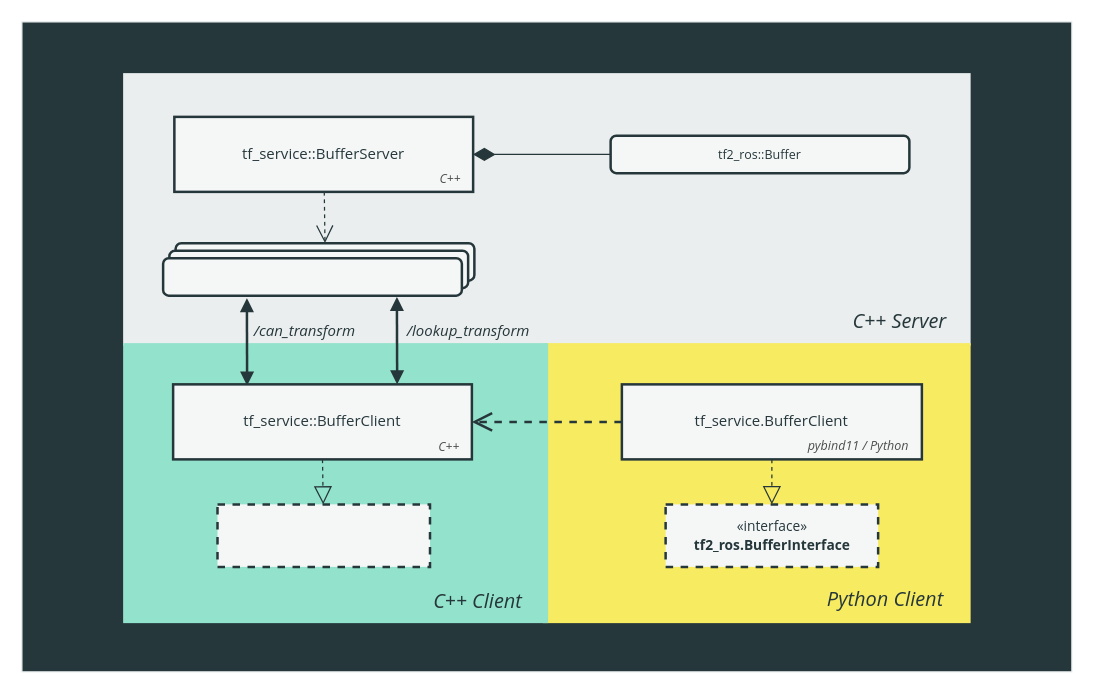
Image size: 1094x694. Some labels were removed from this diagram. Here are the shapes that lost their labels. From the top down, the centre of each, then its label:
At (x=311, y=276): "Request Queues".
At (x=323, y=535): "«interface» tf2_ros::BufferInterface".
